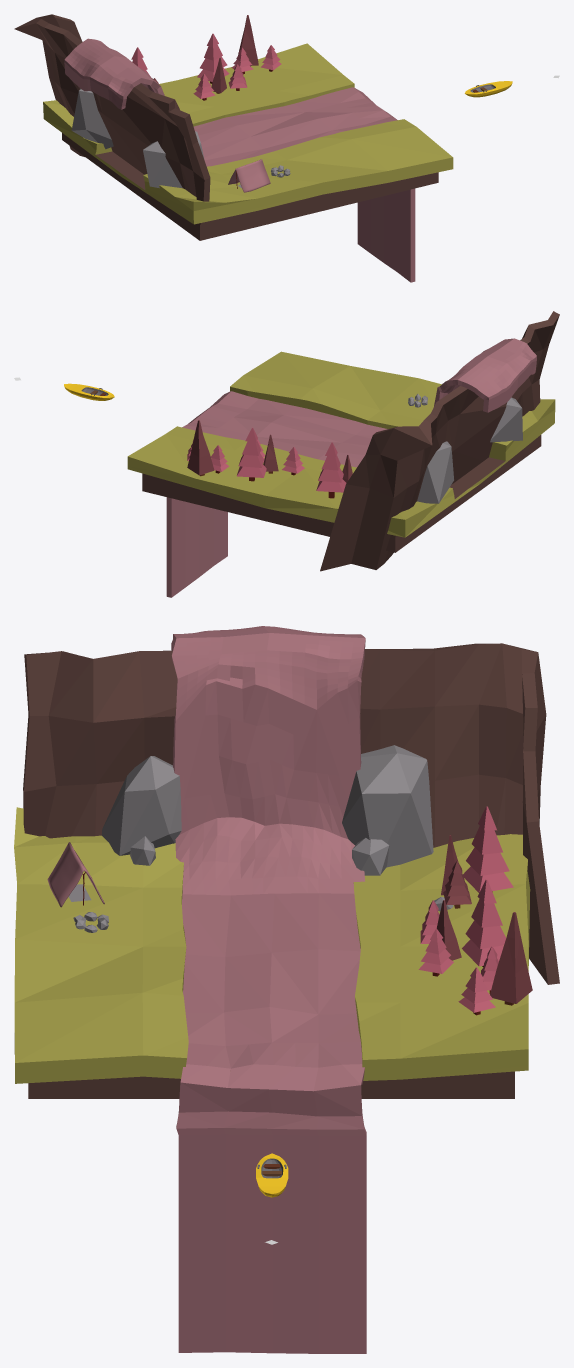
File: waterfallV4.4.glb
3 views of the same model, one above another, from view 1: azimuth 30°, elevation 25°; view 2: azimuth 150°, elevation 25°; view 3: azimuth 270°, elevation 25° (orthographic). The views are drawn at different scales.
Visible parts, largest first — view 1: Flor, River, Cliff, Roc 2.001, Roc 2, Plan, Arbre 2.008, Arbre 1.002, Boat; view 2: Flor, River, Cliff, Roc 2.001, Roc 2, Arbre 2.007, Arbre 2.008, Arbre 1.002, Boat, Arbre 2; view 3: River, Flor, Cliff, Roc 2.001, Roc 2, Arbre 2.007, Arbre 1.002, Arbre 2.008, Plan, Roc, Boat, Arbre 2.006 (+1 smaller).
Part boxes in pixels (x1=…): Flor: x1=43, y1=43, x2=453, y2=240; River: x1=64, y1=38, x2=415, y2=282; Cliff: x1=14, y1=14, x2=210, y2=201; Roc 2.001: x1=71, y1=88, x2=113, y2=149; Roc 2: x1=143, y1=131, x2=204, y2=188; Plan: x1=228, y1=159, x2=270, y2=192; Arbre 2.008: x1=197, y1=33, x2=229, y2=83; Arbre 1.002: x1=238, y1=15, x2=258, y2=66; Boat: x1=464, y1=81, x2=512, y2=97; Flor: x1=127, y1=351, x2=555, y2=552; River: x1=166, y1=338, x2=536, y2=597; Cliff: x1=320, y1=311, x2=559, y2=571; Roc 2.001: x1=417, y1=441, x2=453, y2=503; Roc 2: x1=490, y1=397, x2=522, y2=442; Arbre 2.007: x1=316, y1=442, x2=346, y2=498; Arbre 2.008: x1=237, y1=427, x2=266, y2=481; Arbre 1.002: x1=187, y1=420, x2=214, y2=476; Boat: x1=64, y1=383, x2=114, y2=400; Arbre 2: x1=282, y1=447, x2=304, y2=475; River: x1=171, y1=626, x2=366, y2=1353; Flor: x1=14, y1=807, x2=530, y2=1098; Cliff: x1=23, y1=643, x2=559, y2=984; Roc 2.001: x1=342, y1=745, x2=433, y2=867; Roc 2: x1=101, y1=756, x2=181, y2=855; Arbre 2.007: x1=463, y1=806, x2=513, y2=892; Arbre 1.002: x1=490, y1=912, x2=532, y2=1005; Arbre 2.008: x1=462, y1=879, x2=506, y2=967; Plan: x1=47, y1=842, x2=104, y2=907; Roc: x1=352, y1=838, x2=389, y2=875; Boat: x1=256, y1=1153, x2=288, y2=1197; Arbre 2.006: x1=458, y1=967, x2=495, y2=1015.
Size of the model in its own units: 15.45 by 8.55 by 8.75.
